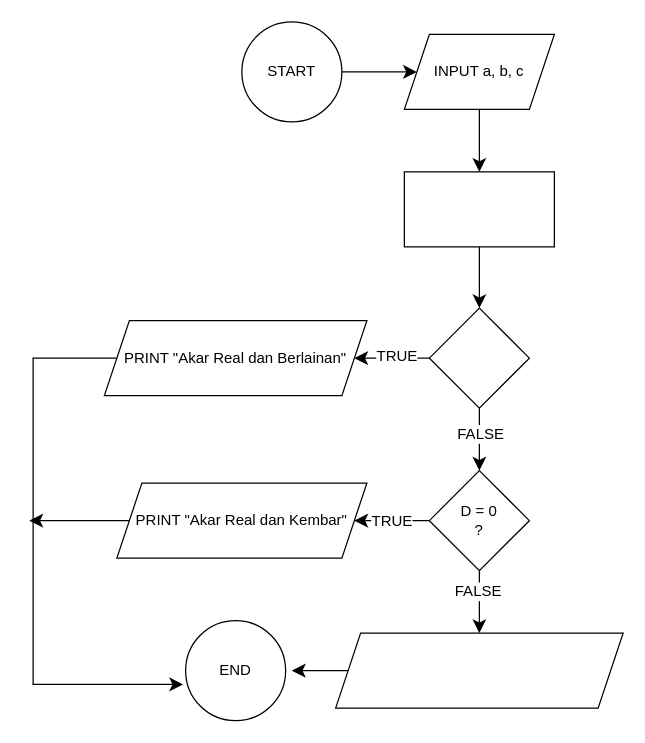
Some shapes in this 645 by 743 pixel diagram are drawn without their labels. The centre of each missing label's shape, as x and y in pixels:
D = b **2 - 4 * a * c: [478,209]
D > 0 ?: [478,357]
PRINT "Akar Imajiner / Tidak Real / Khayal": [478,670]
